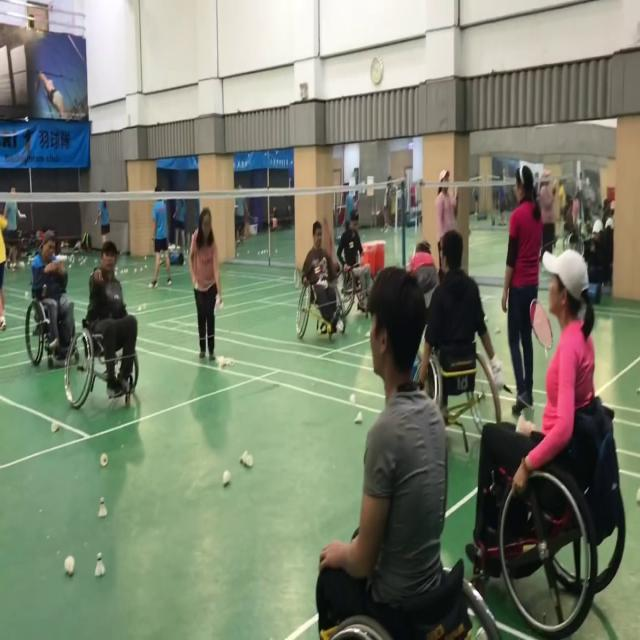wheelchairs: (465, 368, 634, 640), (64, 274, 170, 426), (417, 306, 513, 456), (285, 258, 361, 369), (16, 272, 87, 381), (338, 230, 378, 324)
